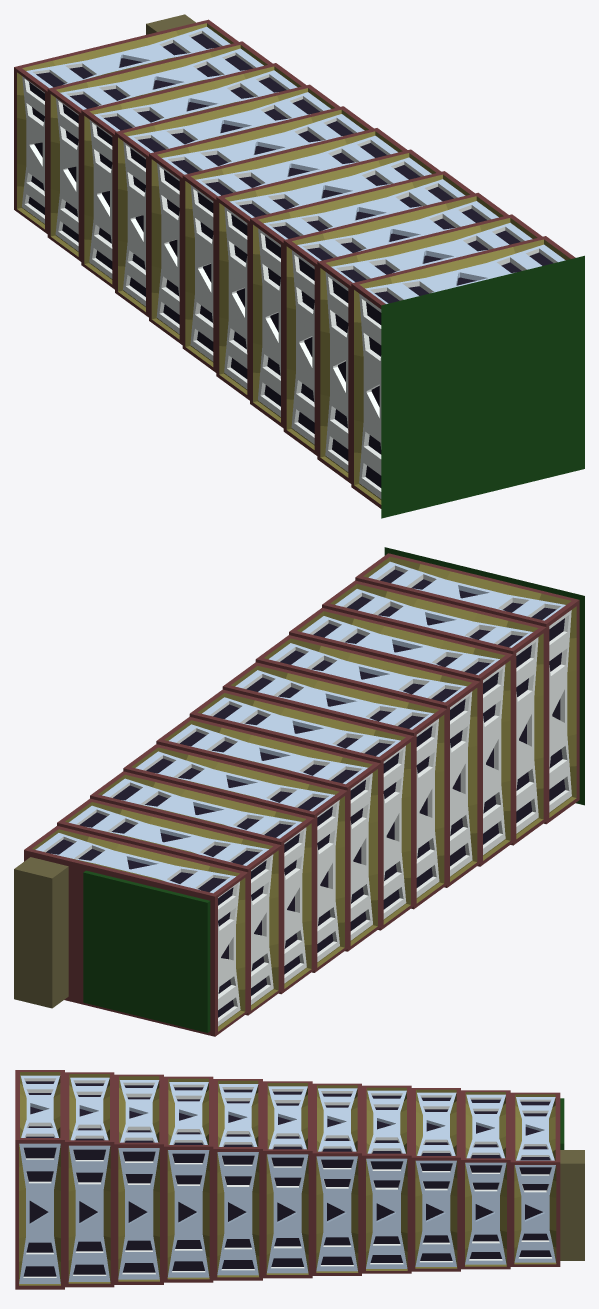
File: 建物大_高レア_2.fbx
3 renders of one model, top to bottom at view 1: azimuth 30°, elevation 25°; view 2: azimuth 150°, elevation 25°; view 3: azimuth 270°, elevation 25°, orthographic. The views are drawn at different scales.
Parts seen in each view (by area): view 1: 平面.001; view 2: 平面.001; view 3: 平面.001.
Part boxes in pixels (x1=…): 平面.001: x1=14, y1=14, x2=584, y2=518; 平面.001: x1=14, y1=547, x2=584, y2=1036; 平面.001: x1=15, y1=1070, x2=584, y2=1289.
Size of the model in its own units: 9 by 9 by 29.74.
